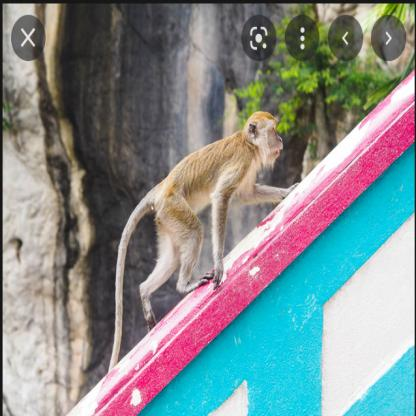monkey: (104, 108, 312, 338)
